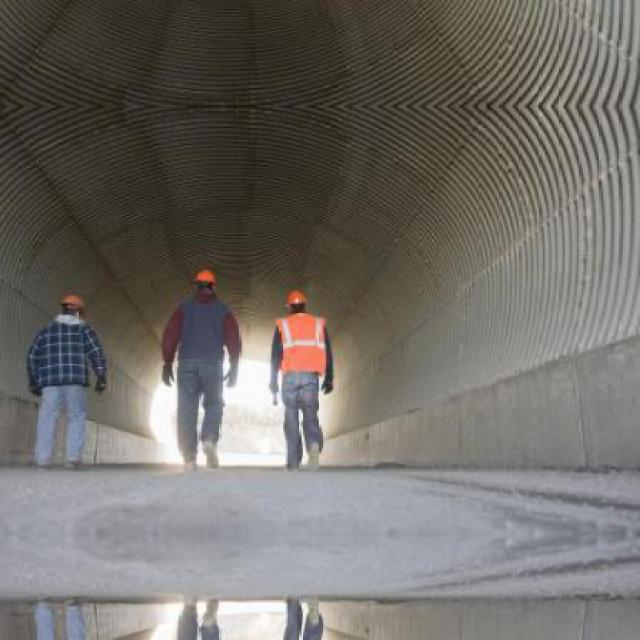helmet: (62, 293, 86, 325), (286, 288, 308, 321), (197, 270, 218, 302)
